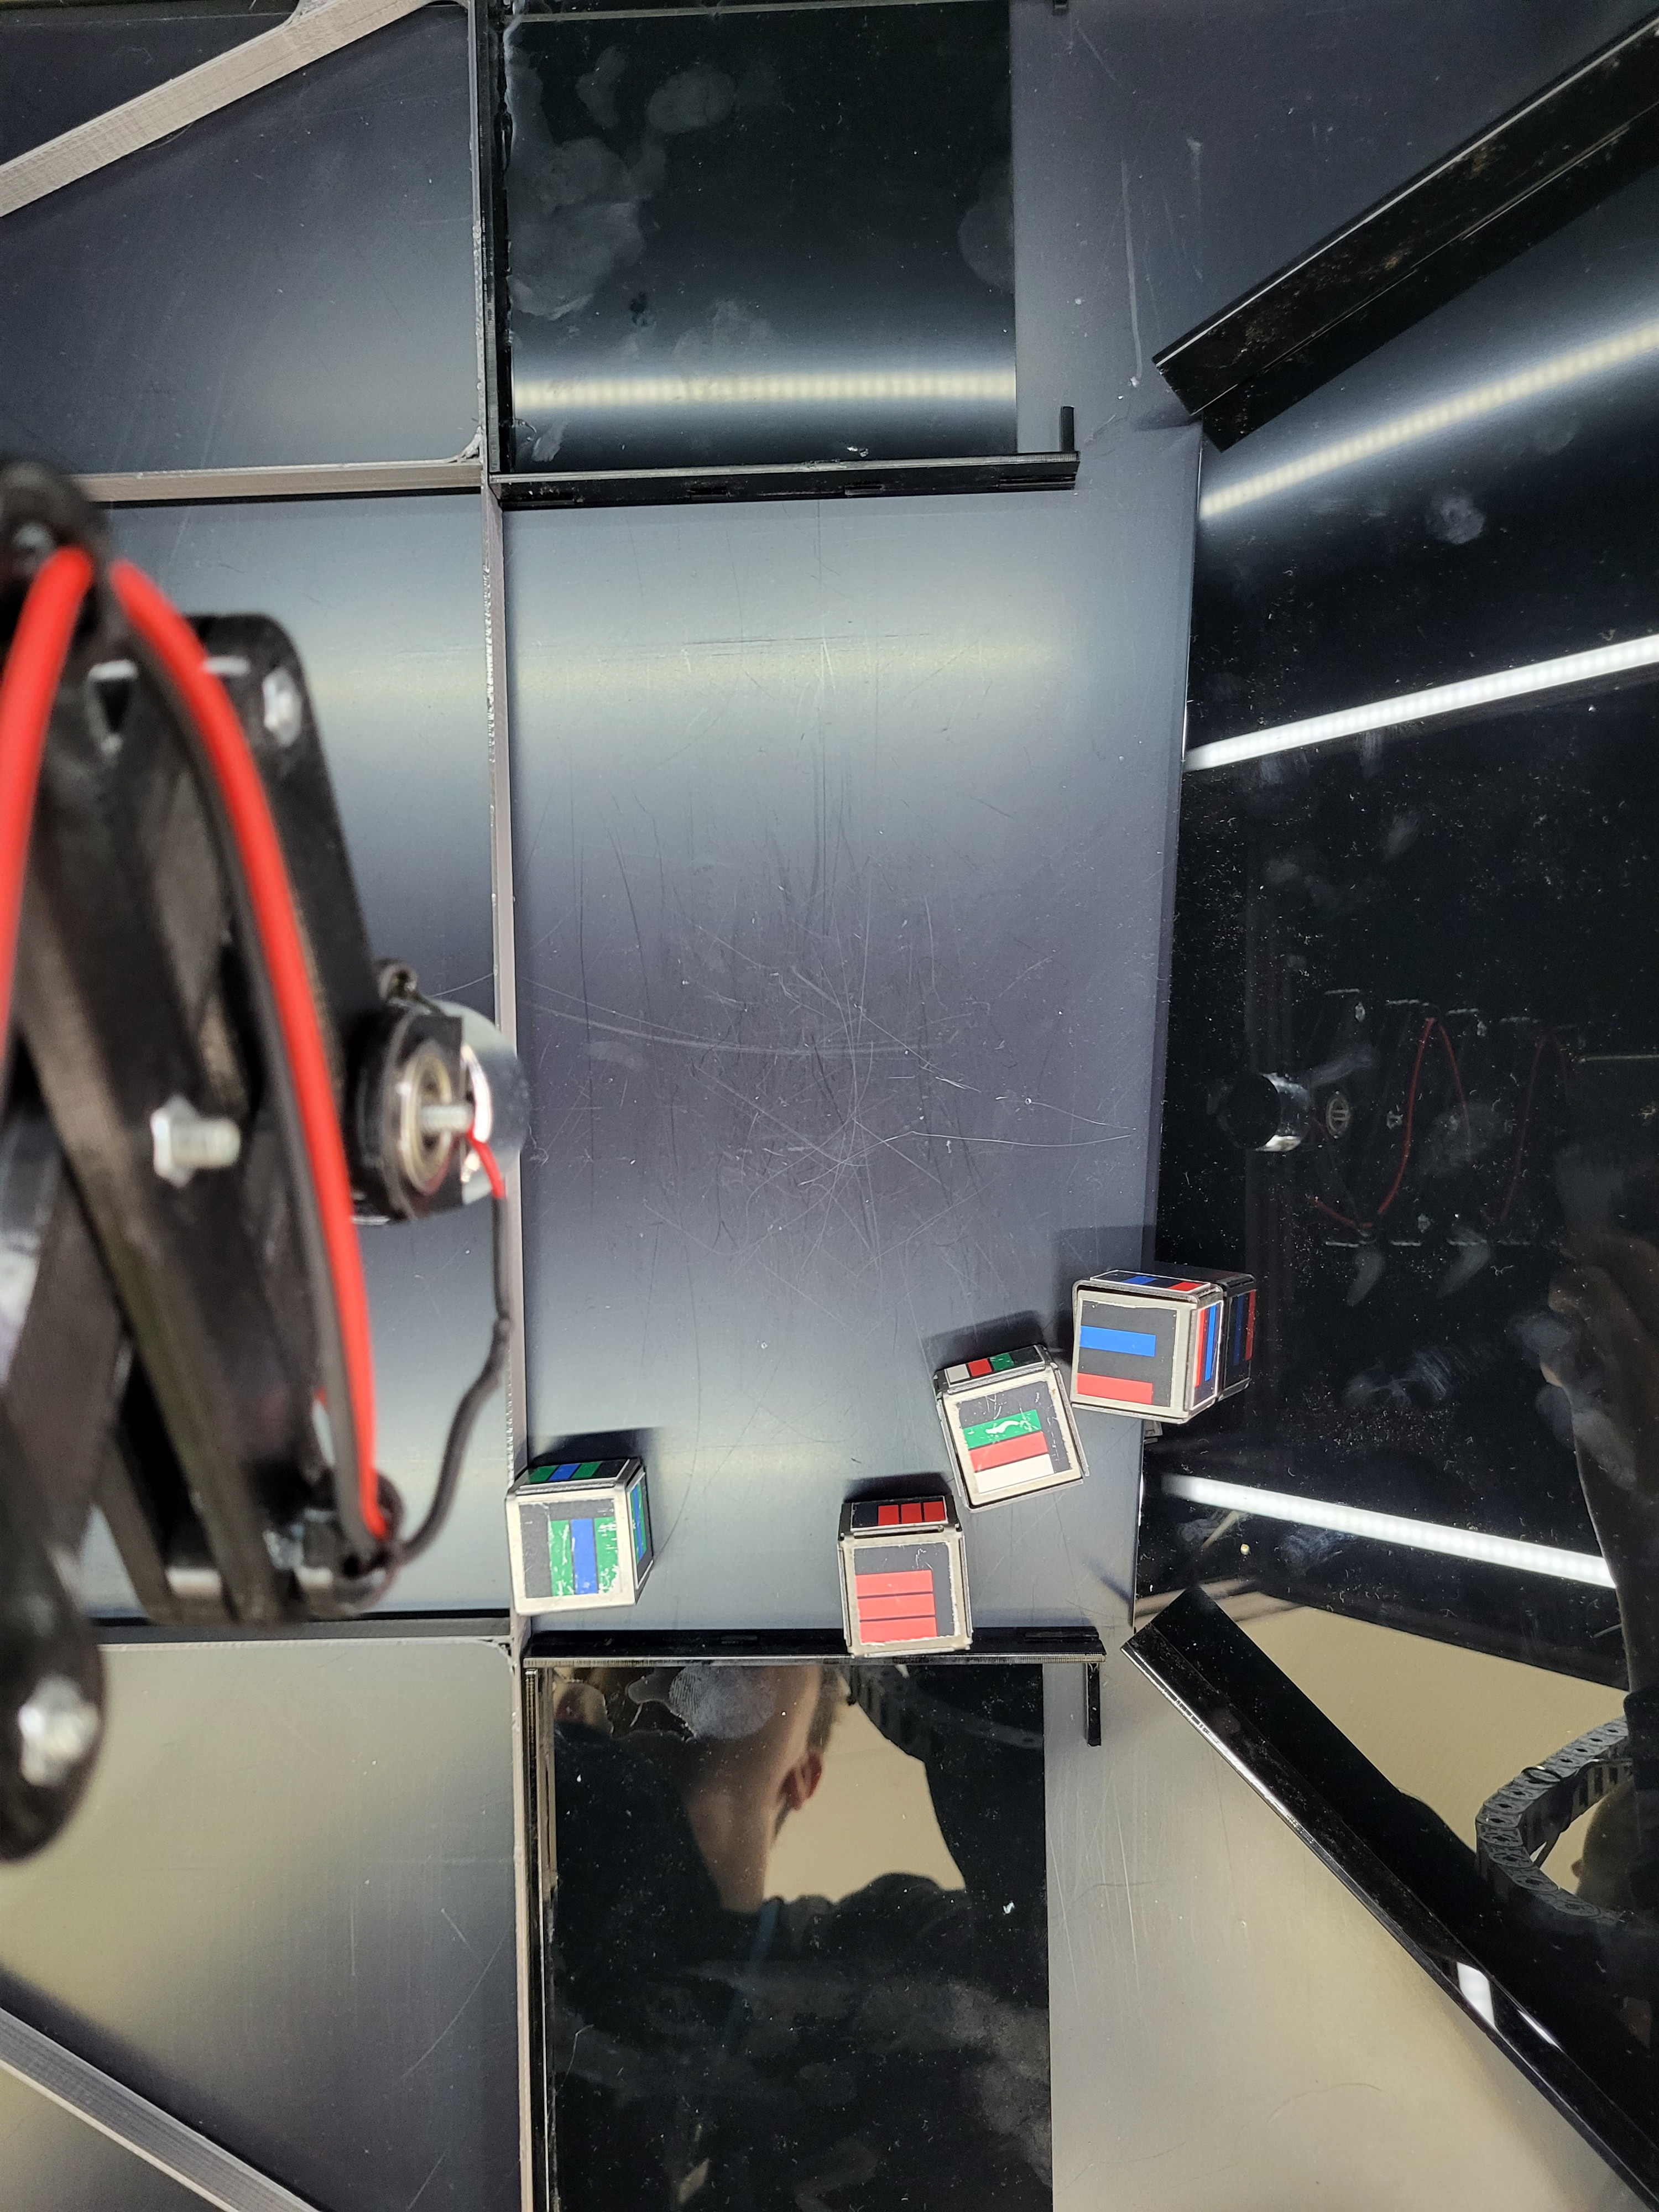Cube: (479, 1442, 655, 1630), (924, 1334, 1089, 1514), (1054, 1258, 1218, 1428), (821, 1514, 981, 1665)
